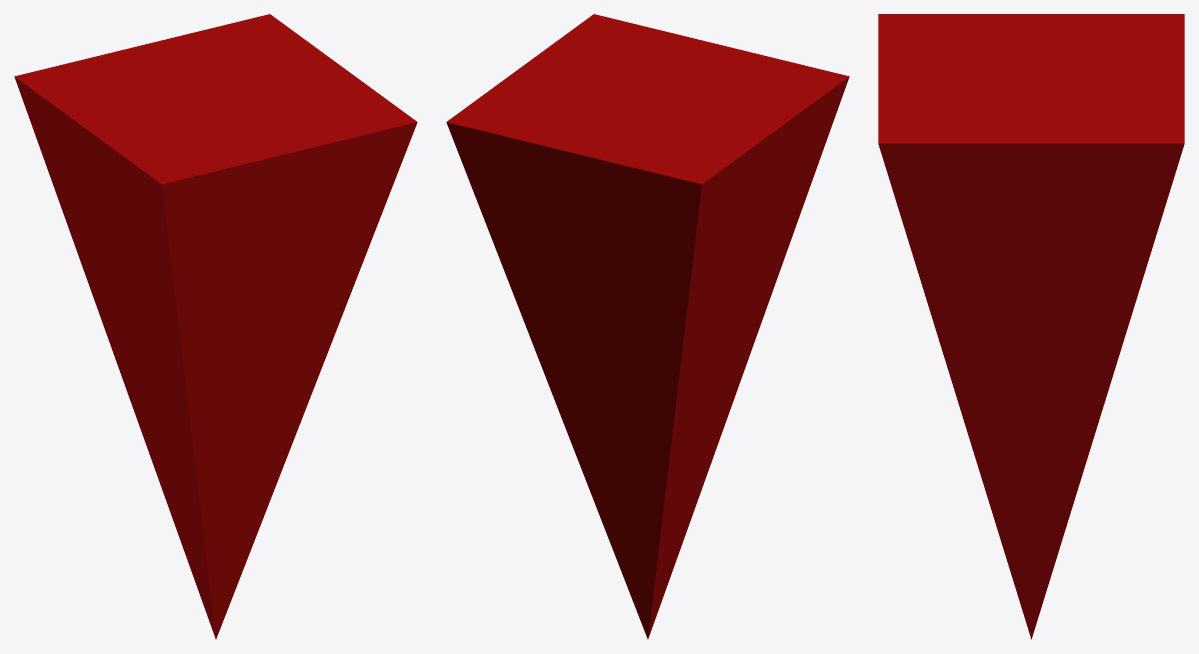
Rendered from DEBUG_RAIL_POS.glb.
3 views of the same model, side by side, from view 1: azimuth 30°, elevation 25°; view 2: azimuth 150°, elevation 25°; view 3: azimuth 270°, elevation 25° (orthographic). The views are drawn at different scales.
Visible parts, largest first — view 1: obj5; view 2: obj5; view 3: obj5.
Part boxes in pixels (box(x1,y1,x2,y2)): obj5: box(14, 14, 417, 639); obj5: box(446, 14, 849, 639); obj5: box(878, 14, 1184, 639).
Size of the model in its own units: 1 by 2.02 by 1.
Materials: 1 (1 with a texture image).
